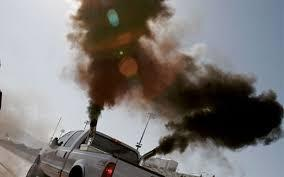smoke: (90, 2, 156, 91), (177, 89, 268, 135)
